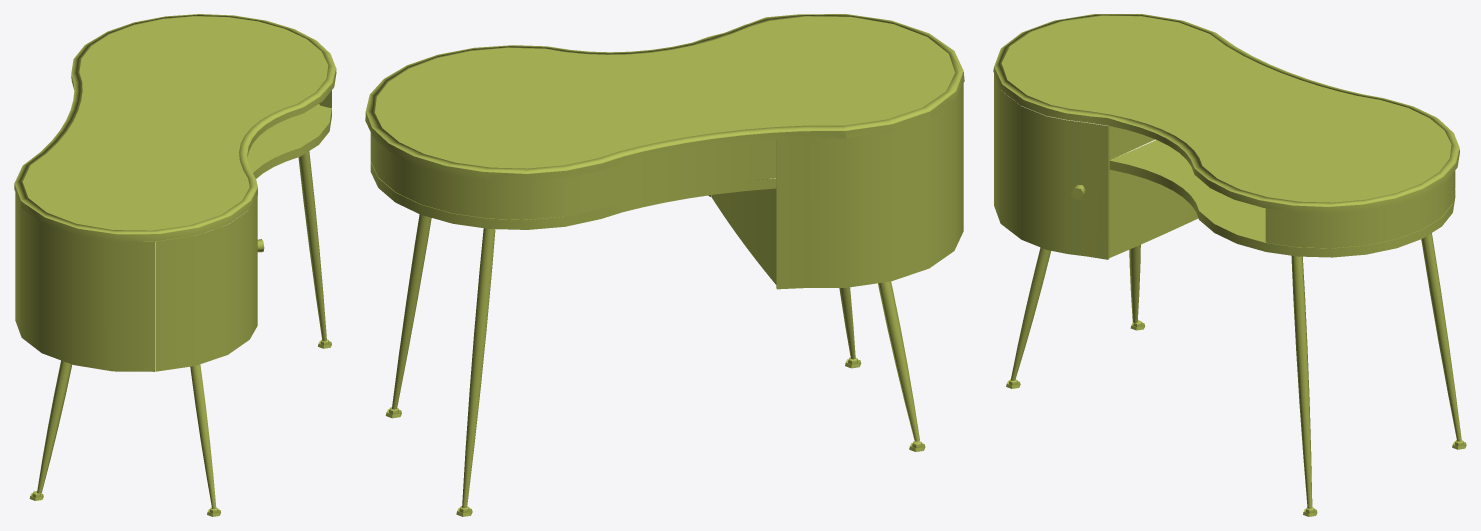
File: Desk.glb
3 views of the same model, side by side, from view 1: azimuth 30°, elevation 25°; view 2: azimuth 150°, elevation 25°; view 3: azimuth 270°, elevation 25° (orthographic). The views are drawn at different scales.
Visible parts, largest first — view 1: Desk000; view 2: Desk000; view 3: Desk000.
Part boxes in pixels (<box>): Desk000: <box>14,14,336,516</box>; Desk000: <box>365,14,964,516</box>; Desk000: <box>993,14,1466,516</box>.
Bounding box in the file's own units: 10.66 × 7.78 × 10.84.
